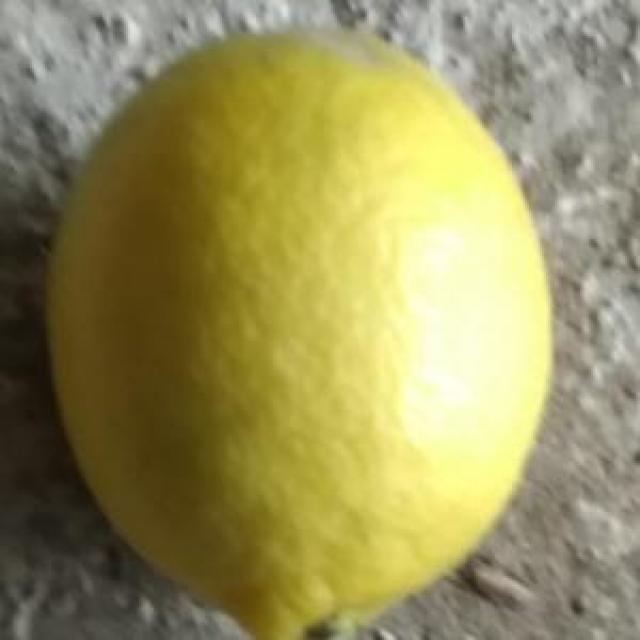lemon: (41, 23, 552, 640)
